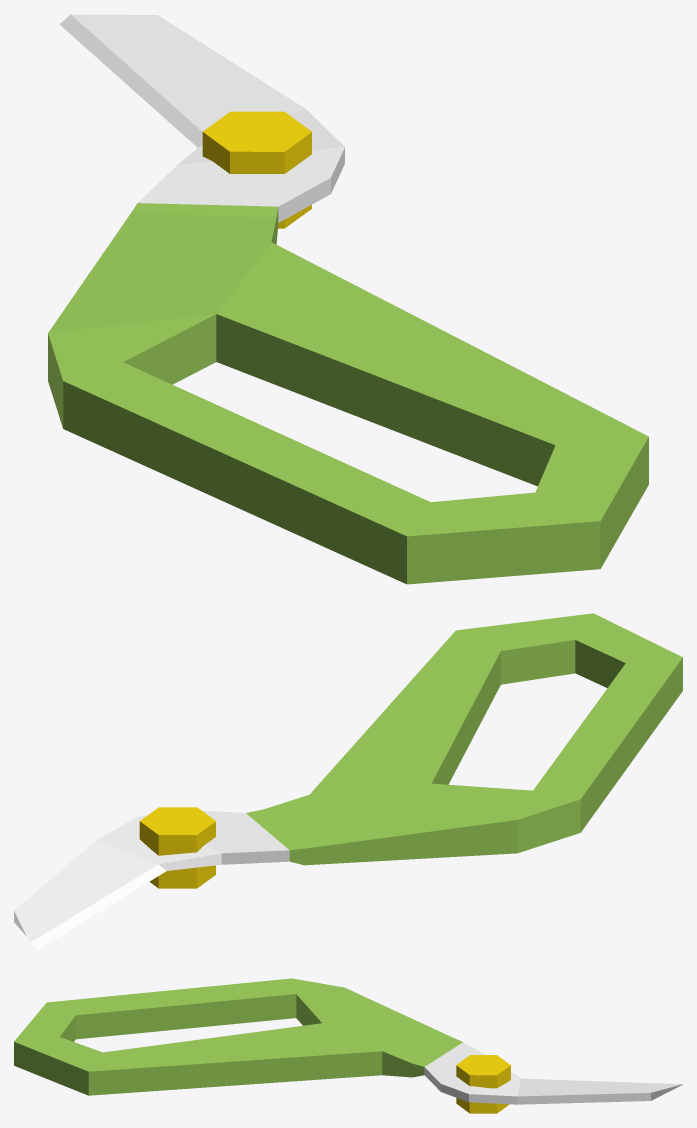
Rendered from Flower Scissors Left.fbx.
3 views of the same model, one above another, from view 1: azimuth 30°, elevation 25°; view 2: azimuth 150°, elevation 25°; view 3: azimuth 270°, elevation 25° (orthographic). The views are drawn at different scales.
Parts seen in each view (by area): view 1: Flower Scissors P1; view 2: Flower Scissors P1; view 3: Flower Scissors P1.
Part boxes in pixels (box(x1,y1,x2,y2)): Flower Scissors P1: box(48, 14, 648, 584); Flower Scissors P1: box(14, 613, 682, 949); Flower Scissors P1: box(14, 978, 682, 1113).
Size of the model in its own units: 0.1795 by 0.0281 by 0.444.
